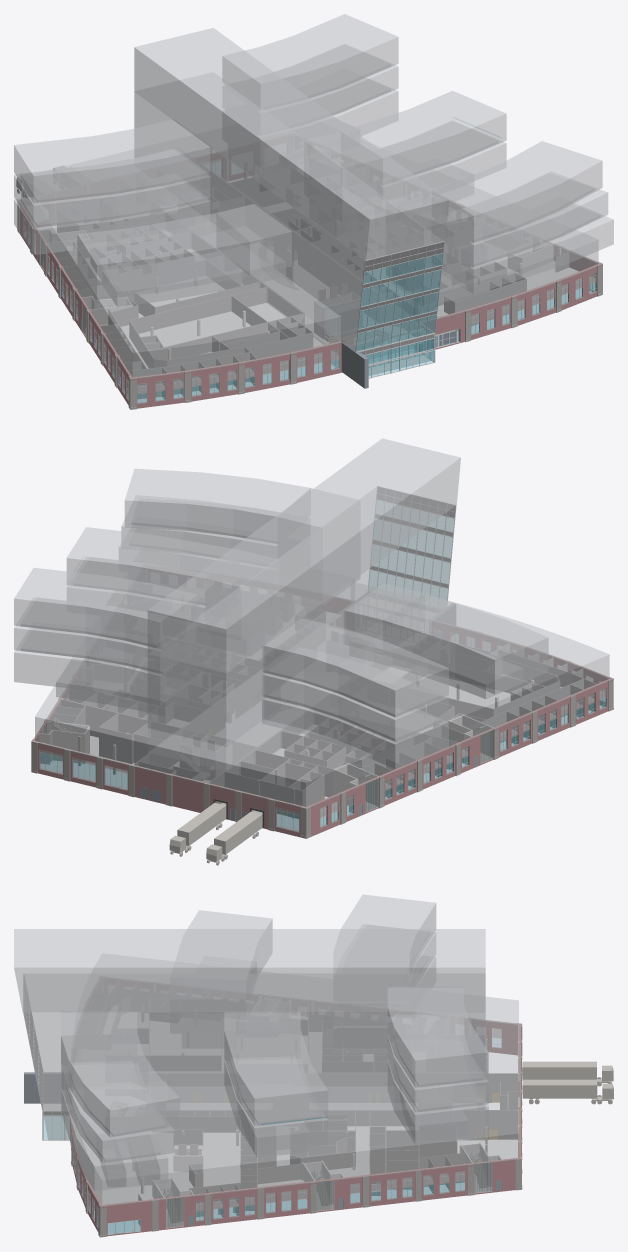
The picture shows the model from 3 angles, top to bottom: view 1: azimuth 30°, elevation 25°; view 2: azimuth 150°, elevation 25°; view 3: azimuth 270°, elevation 25°; orthographic projection.
Visible parts, largest first — view 1: 1IjDNnD1b6tenKMZR0qHo0, 1IjDNnD1b6tenKMZR0qHo2, 1IjDNnD1b6tenKMZR0qHnz, 1IjDNnD1b6tenKMZR0qHn_, 1IjDNnD1b6tenKMZR0qCK4, 1IjDNnD1b6tenKMZR0qC8T, 1IjDNnD1b6tenKMZR0qCK7, 1IjDNnD1b6tenKMZR0q8JH, 1IjDNnD1b6tenKMZR0q8Os, 1IjDNnD1b6tenKMZR0qJbX, 1IjDNnD1b6tenKMZR0qC5x, 1IjDNnD1b6tenKMZR0qCKF (+4 smaller); view 2: 1IjDNnD1b6tenKMZR0qHo0, 1IjDNnD1b6tenKMZR0qHn_, 1IjDNnD1b6tenKMZR0qHn$, 1IjDNnD1b6tenKMZR0qHi3, 1IjDNnD1b6tenKMZR0qHo2, 1IjDNnD1b6tenKMZR0qCHB, 1IjDNnD1b6tenKMZR0qCHA, 1IjDNnD1b6tenKMZR0qC8T, 1IjDNnD1b6tenKMZR0qCHM, 1IjDNnD1b6tenKMZR0qCDw, 1IjDNnD1b6tenKMZR0qCKv, 1IjDNnD1b6tenKMZR0qCMu (+6 smaller); view 3: 1IjDNnD1b6tenKMZR0qHo0, 1IjDNnD1b6tenKMZR0qHny, 1IjDNnD1b6tenKMZR0q8JH, 1IjDNnD1b6tenKMZR0qCHA, 1IjDNnD1b6tenKMZR0qCHB, 1IjDNnD1b6tenKMZR0qC8T, 1IjDNnD1b6tenKMZR0q8Ip, 1IjDNnD1b6tenKMZR0qHiK, 1IjDNnD1b6tenKMZR0qCK8, 1IjDNnD1b6tenKMZR0q8Os, 1IjDNnD1b6tenKMZR0qHn_, 1IjDNnD1b6tenKMZR0qHnz (+11 smaller).
Boxes of the visible parts, <box> form: 1IjDNnD1b6tenKMZR0qHo0: <box>14,14,613,402</box>; 1IjDNnD1b6tenKMZR0qHo2: <box>131,340,345,408</box>; 1IjDNnD1b6tenKMZR0qHnz: <box>419,263,600,351</box>; 1IjDNnD1b6tenKMZR0qHn_: <box>19,201,131,404</box>; 1IjDNnD1b6tenKMZR0qCK4: <box>130,287,267,333</box>; 1IjDNnD1b6tenKMZR0qC8T: <box>139,311,250,346</box>; 1IjDNnD1b6tenKMZR0qCK7: <box>149,313,302,359</box>; 1IjDNnD1b6tenKMZR0q8JH: <box>368,257,594,323</box>; 1IjDNnD1b6tenKMZR0q8Os: <box>341,342,368,388</box>; 1IjDNnD1b6tenKMZR0qJbX: <box>454,279,526,330</box>; 1IjDNnD1b6tenKMZR0qC5x: <box>140,282,224,306</box>; 1IjDNnD1b6tenKMZR0qCKF: <box>247,332,312,358</box>; 1IjDNnD1b6tenKMZR0qHo0: <box>14,438,609,830</box>; 1IjDNnD1b6tenKMZR0qHn_: <box>306,678,610,837</box>; 1IjDNnD1b6tenKMZR0qHn$: <box>37,741,307,838</box>; 1IjDNnD1b6tenKMZR0qHi3: <box>61,699,180,740</box>; 1IjDNnD1b6tenKMZR0qHo2: <box>432,620,611,706</box>; 1IjDNnD1b6tenKMZR0qCHB: <box>206,811,262,865</box>; 1IjDNnD1b6tenKMZR0qCHA: <box>169,802,225,856</box>; 1IjDNnD1b6tenKMZR0qC8T: <box>420,677,510,708</box>; 1IjDNnD1b6tenKMZR0qCHM: <box>224,772,302,818</box>; 1IjDNnD1b6tenKMZR0qCDw: <box>99,727,131,763</box>; 1IjDNnD1b6tenKMZR0qCKv: <box>254,750,332,797</box>; 1IjDNnD1b6tenKMZR0qCMu: <box>70,688,165,723</box>; 1IjDNnD1b6tenKMZR0qHo0: <box>14,894,518,1233</box>; 1IjDNnD1b6tenKMZR0qHny: <box>102,1157,520,1236</box>; 1IjDNnD1b6tenKMZR0q8JH: <box>74,1132,240,1206</box>; 1IjDNnD1b6tenKMZR0qCHA: <box>522,1079,613,1104</box>; 1IjDNnD1b6tenKMZR0qCHB: <box>522,1061,613,1086</box>; 1IjDNnD1b6tenKMZR0qC8T: <box>150,1021,220,1055</box>; 1IjDNnD1b6tenKMZR0q8Ip: <box>276,1126,369,1192</box>; 1IjDNnD1b6tenKMZR0qHiK: <box>151,1116,240,1132</box>; 1IjDNnD1b6tenKMZR0qCK8: <box>145,1056,220,1070</box>; 1IjDNnD1b6tenKMZR0q8Os: <box>24,1072,60,1103</box>; 1IjDNnD1b6tenKMZR0qHn_: <box>307,1012,519,1055</box>; 1IjDNnD1b6tenKMZR0qHnz: <box>70,1114,102,1231</box>.
Bounding box in the file's own units: 102 × 36.2 × 110.
